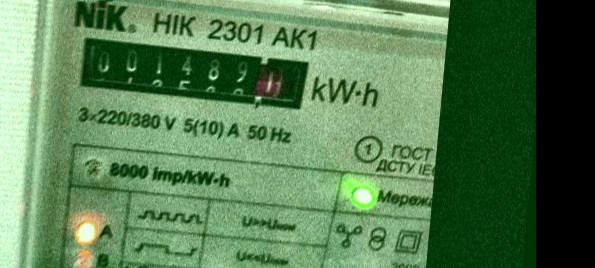0: (122, 45, 140, 72), (94, 47, 112, 73)
1: (150, 47, 167, 77), (261, 63, 276, 94)
4: (177, 50, 196, 78)
8: (203, 53, 222, 81)
9: (232, 57, 249, 84)
screen: (63, 24, 324, 123)
